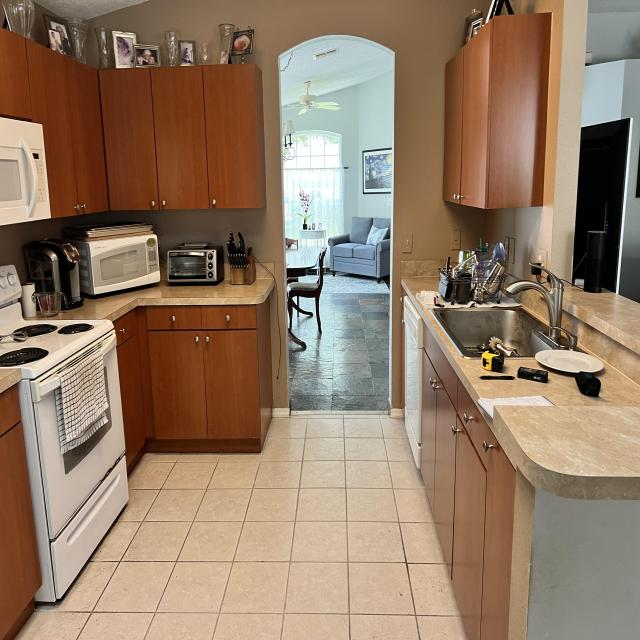Appliance_Dishwasher: (400, 295, 423, 470)
Appliance_Microwave: (0, 116, 50, 225)
Appliance_Oven: (0, 265, 129, 604)
Appliance_Sink: (433, 262, 564, 358)
Cabinet_Flat: (0, 28, 263, 220), (420, 327, 514, 640), (115, 306, 261, 472), (0, 386, 42, 640), (443, 27, 491, 210)
Countertop_Laminate: (401, 275, 640, 406), (493, 405, 640, 501), (493, 406, 640, 501), (56, 278, 273, 320), (563, 285, 640, 356)
